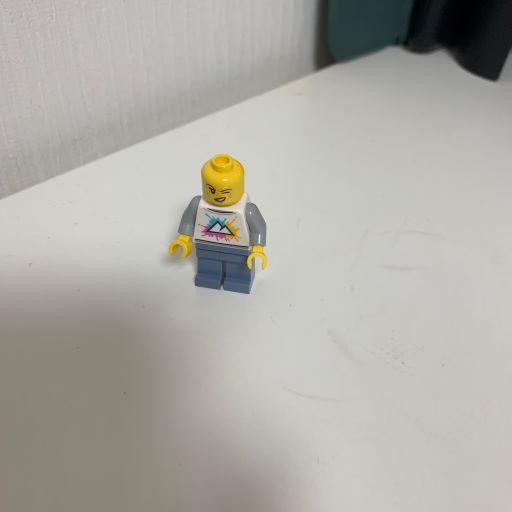human: (161, 150, 278, 299)
